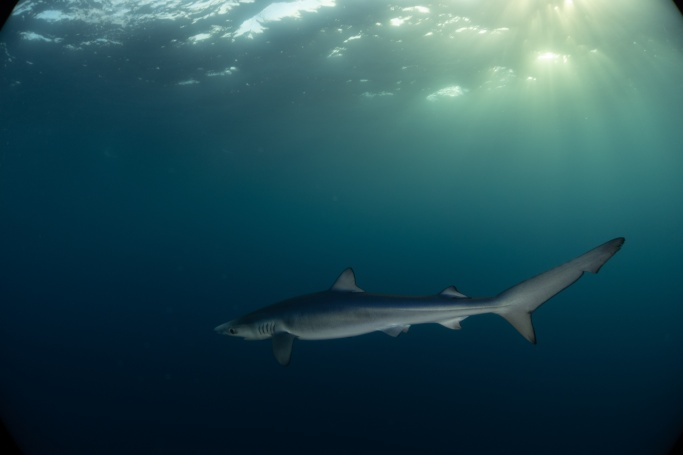Azul: (192, 202, 636, 385)
